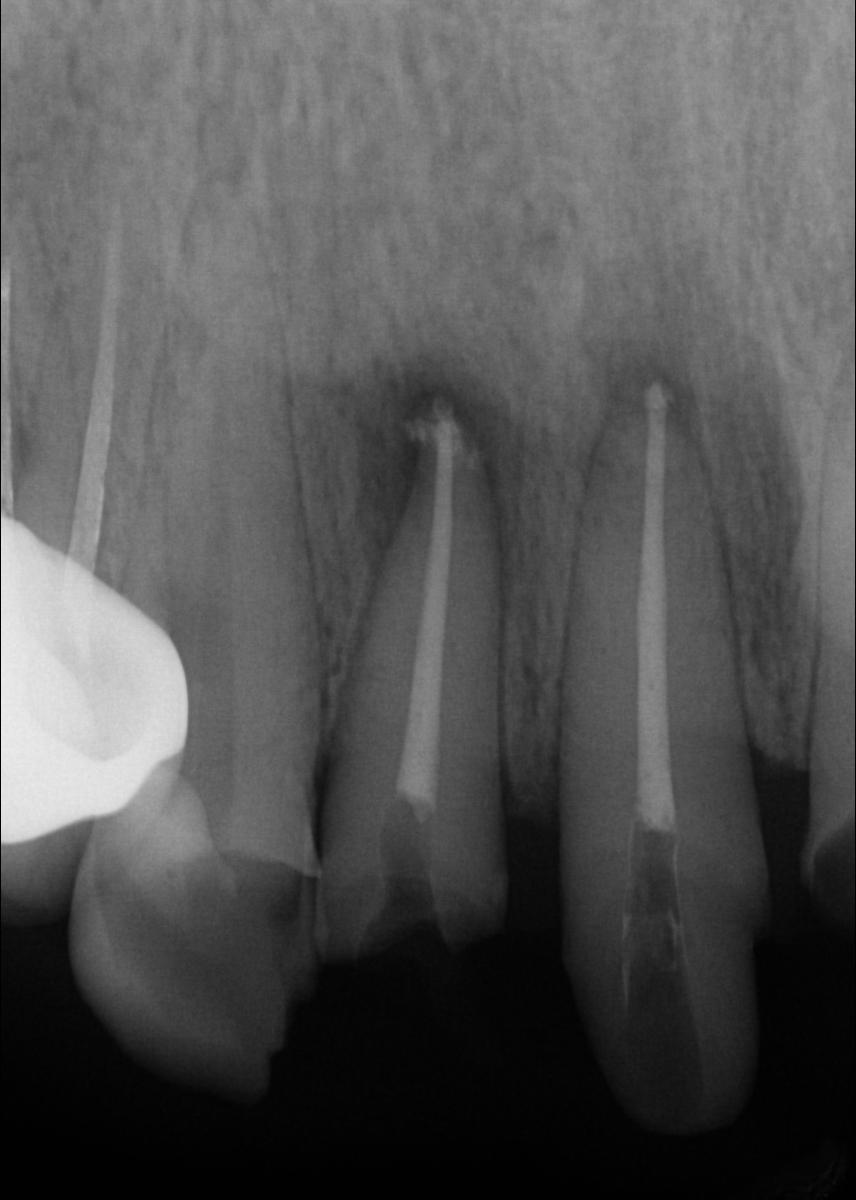Furcation Involvement: (586, 258, 811, 698), (354, 354, 524, 564)
